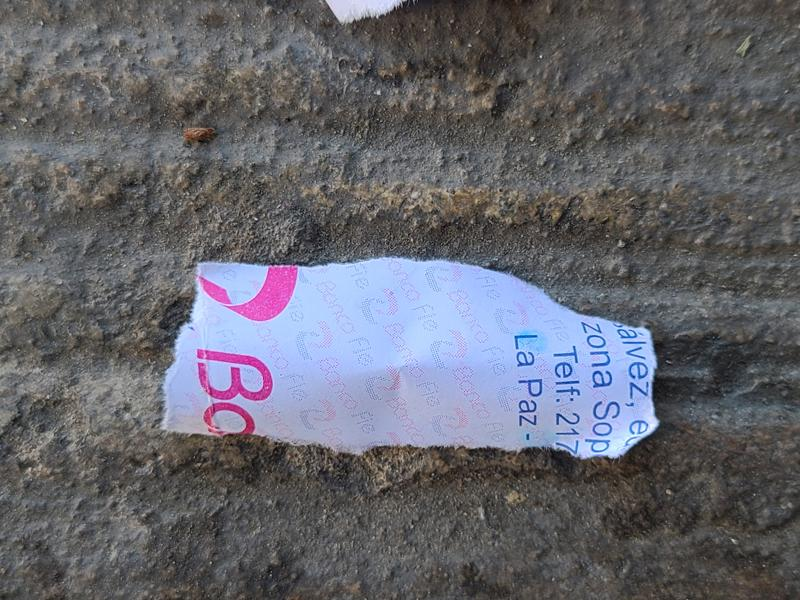papel: (162, 257, 659, 461)
